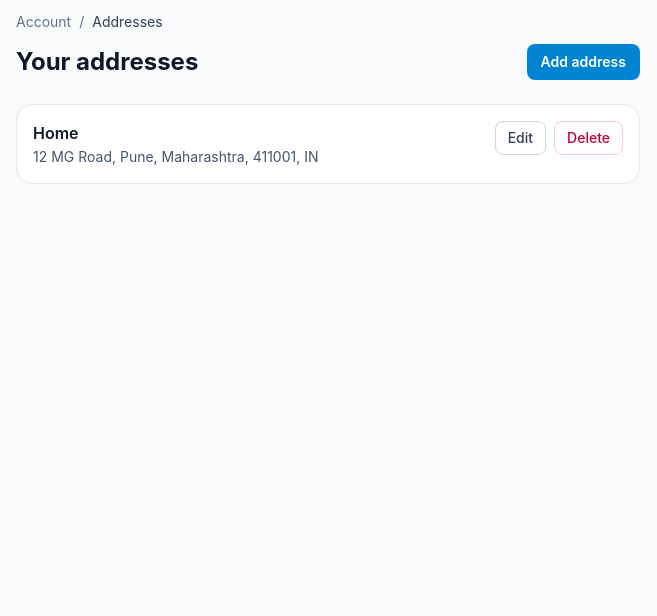
it: AddressesPage › creates an address and shows it in the list
Expected: the text "Home" is shown, [33,123,78,143]
Click the button "Add address": point(583, 62) [527,44,640,80]
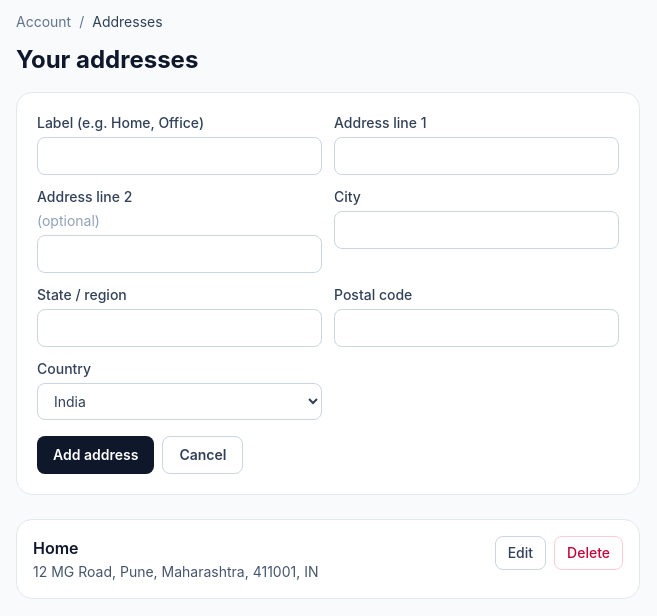
In the field labelled "Label (e.g. Home, Office)": point(180, 156) [37,137,322,175], type "Office"
In the field labelled "Address line 1": point(476, 156) [334,137,619,175], type "5 Residency Road"
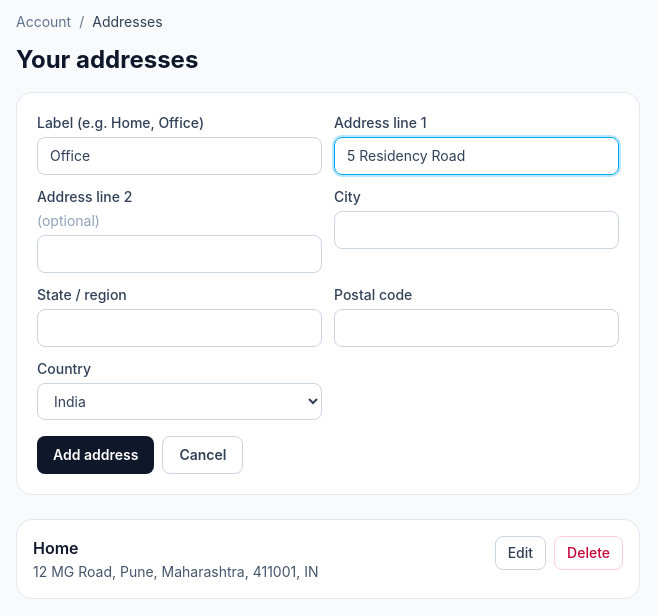
In the field labelled "City": point(476, 230) [334,211,619,249], type "Bengaluru"
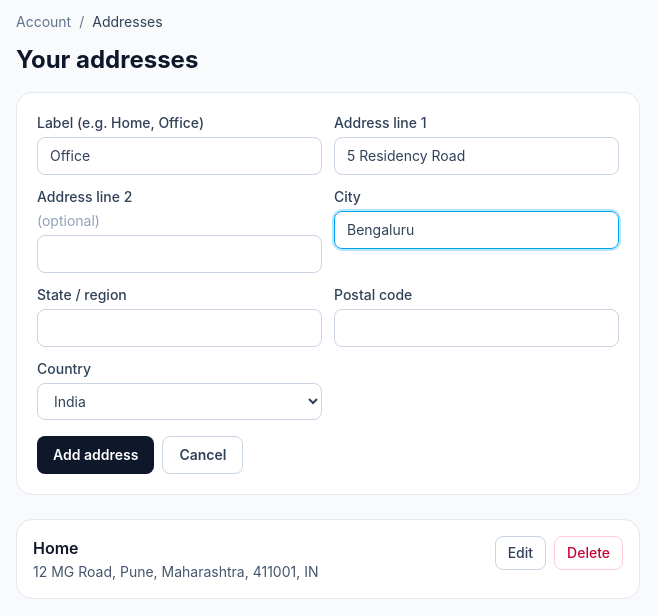
In the field labelled "State / region": point(180, 328) [37,309,322,347], type "Karnataka"
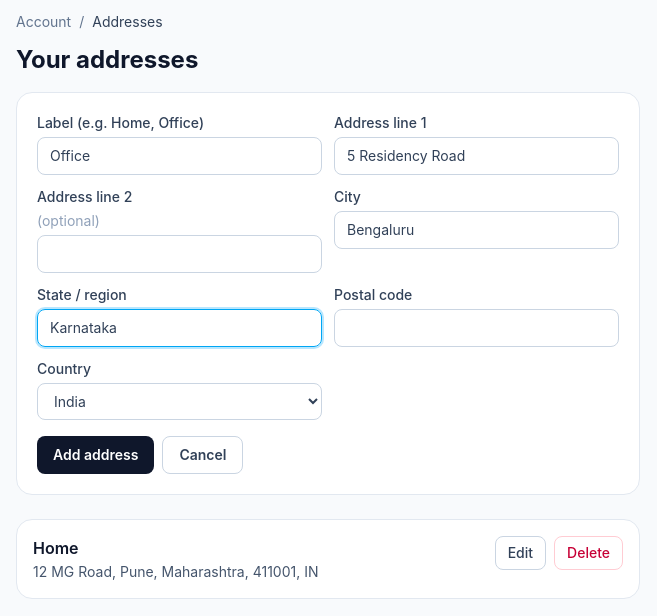
In the field labelled "Postal code": point(476, 328) [334,309,619,347], type "560025"
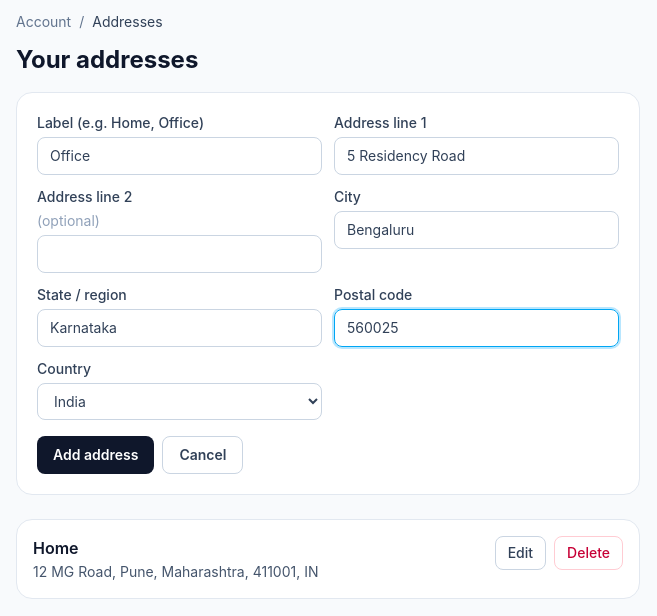
Click the button "Add address": point(96, 455) [37,436,154,474]
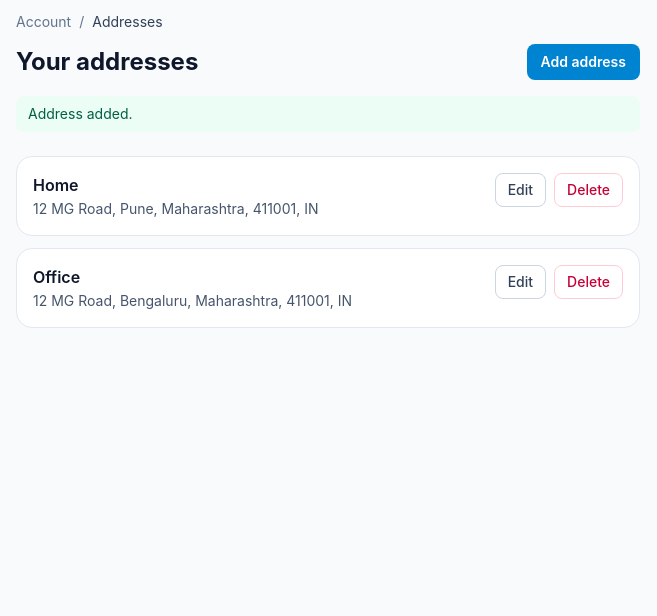
Result: the text "Office" is shown at [33,267,80,287]
Result: the message shows "Address added" at [28,105,132,122]
